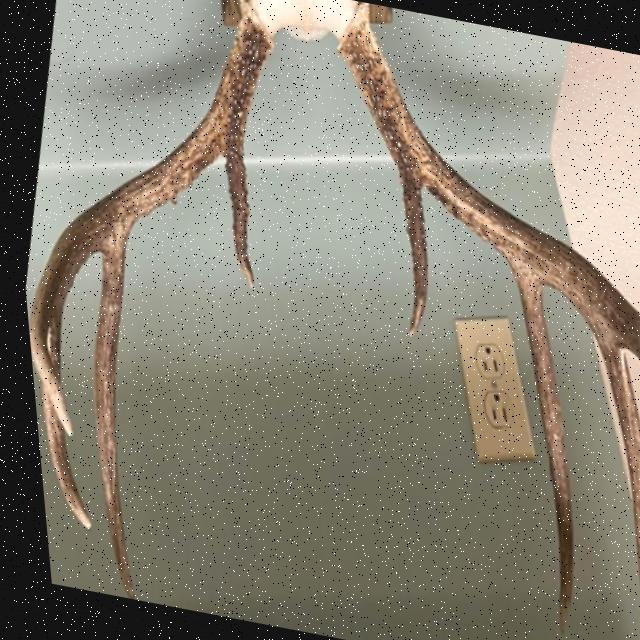L-F: (23, 0, 274, 438)
L-G1: (218, 130, 250, 292)
L-G2: (86, 223, 132, 600)
R-F: (336, 3, 640, 379)
R-G1: (390, 161, 424, 343)
R-G2: (503, 261, 564, 636)
R-G3: (586, 332, 640, 628)
